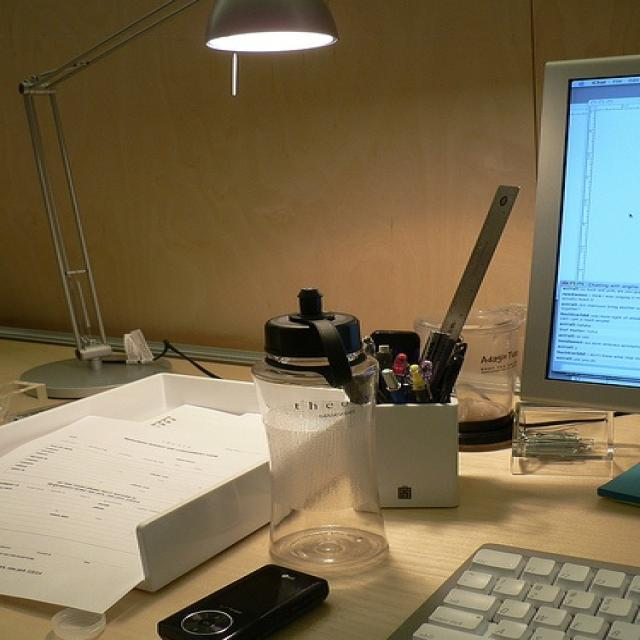bottle: (251, 284, 392, 575)
tvmonitor: (516, 50, 638, 413)
